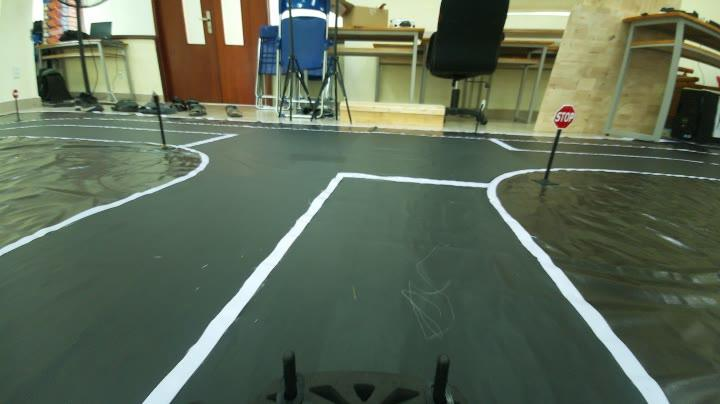stop: (548, 103, 578, 131)
